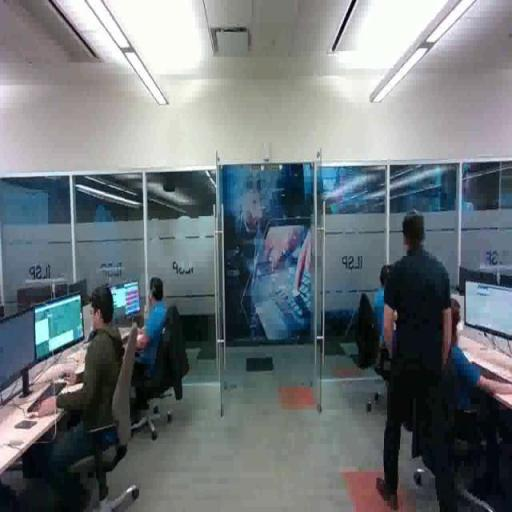person: (378, 212, 454, 512)
